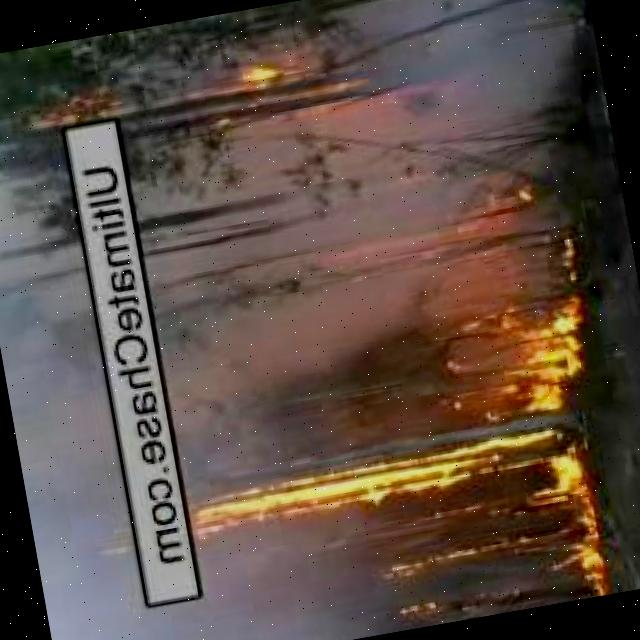fire: (492, 301, 623, 606), (198, 458, 513, 537), (35, 85, 127, 140), (386, 537, 493, 579), (476, 171, 542, 219), (220, 52, 283, 96), (394, 593, 438, 624)
